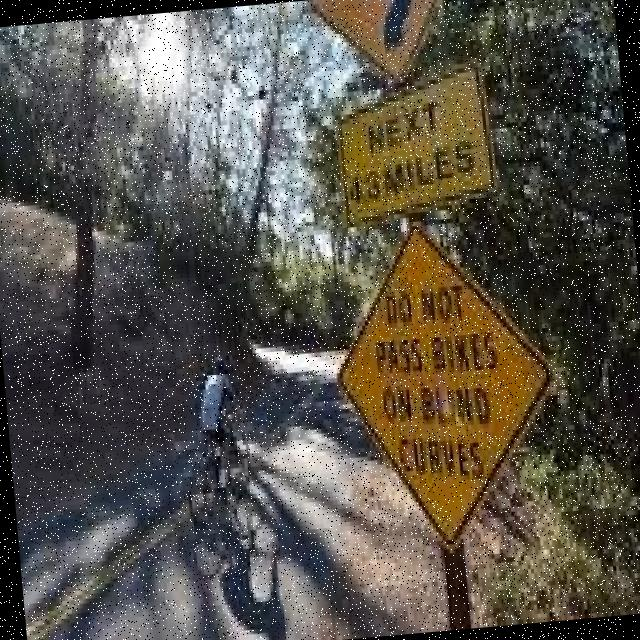left_sharp_curve: (294, 0, 507, 91)
